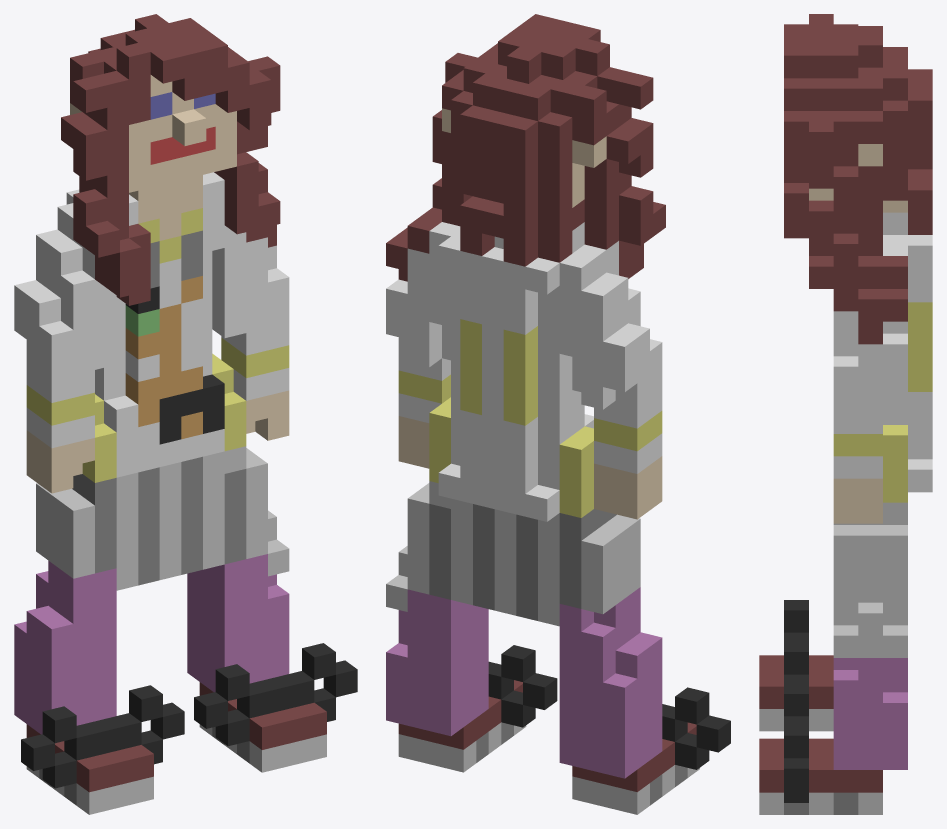
Rendered from girl5_v1.fbx.
3 views of the same model, side by side, from view 1: azimuth 30°, elevation 25°; view 2: azimuth 150°, elevation 25°; view 3: azimuth 270°, elevation 25° (orthographic).
Visible parts, largest first — view 1: girl5; view 2: girl5; view 3: girl5.
Part boxes in pixels (box(x1,y1,x2,y2)): girl5: box(14, 14, 357, 814); girl5: box(386, 14, 730, 814); girl5: box(759, 14, 932, 814).
Bounding box in the file's own units: 15 × 32 × 7.
